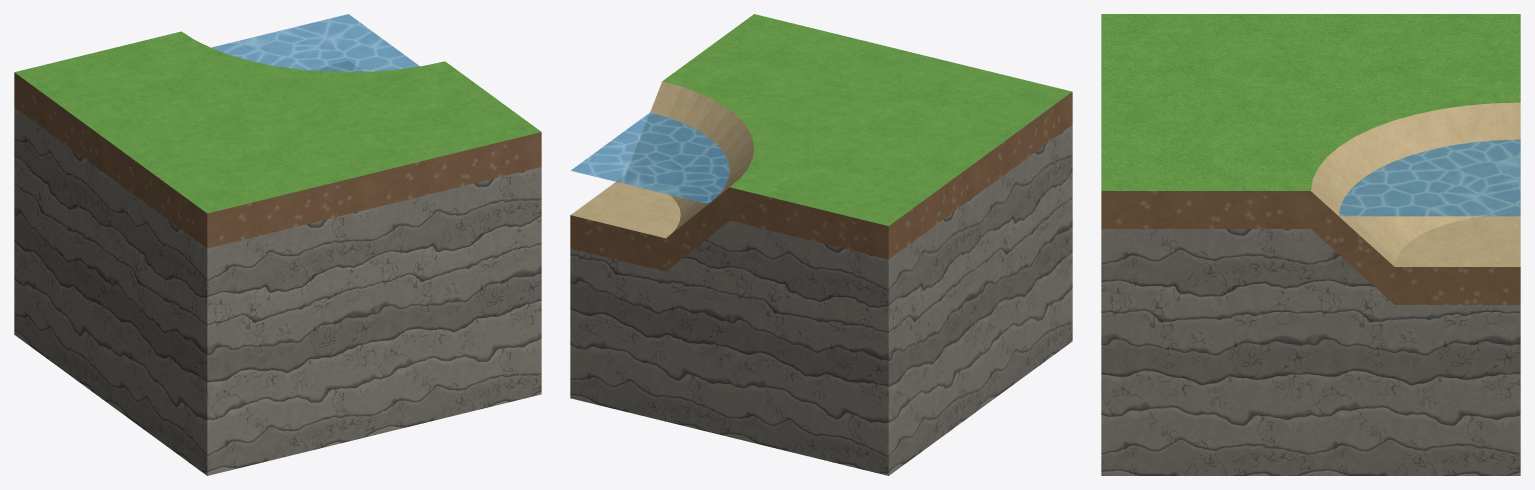
Rendered from Water_OuterCorner_U.fbx.
3 views of the same model, side by side, from view 1: azimuth 30°, elevation 25°; view 2: azimuth 150°, elevation 25°; view 3: azimuth 270°, elevation 25° (orthographic). The views are drawn at different scales.
Parts seen in each view (by area): view 1: Water_OuterCorner_U, Water_OuterCorner_U_Water; view 2: Water_OuterCorner_U, Water_OuterCorner_U_Water; view 3: Water_OuterCorner_U, Water_OuterCorner_U_Water.
Boxes of the visible parts, x1,y1,x2,y2 form: Water_OuterCorner_U: [14, 31, 541, 475]; Water_OuterCorner_U_Water: [211, 14, 419, 72]; Water_OuterCorner_U: [570, 14, 1072, 475]; Water_OuterCorner_U_Water: [571, 112, 729, 204]; Water_OuterCorner_U: [1101, 14, 1520, 475]; Water_OuterCorner_U_Water: [1339, 139, 1520, 216].
Size of the model in its own units: 3 by 2.25 by 3.
Materials: 5 (5 with a texture image).
